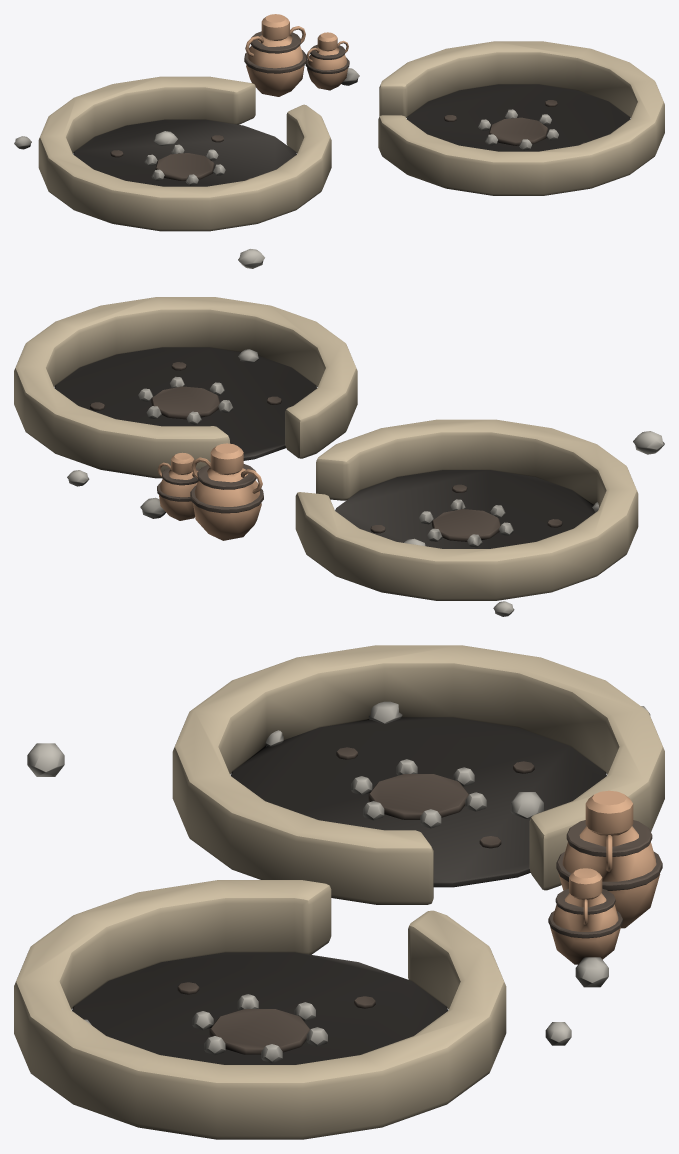
Rendered from hehuang_site.glb.
3 views of the same model, one above another, from view 1: azimuth 30°, elevation 25°; view 2: azimuth 150°, elevation 25°; view 3: azimuth 270°, elevation 25° (orthographic). The views are drawn at different scales.
Visible parts, largest first — view 1: hehuang_site; view 2: hehuang_site; view 3: hehuang_site.
Boxes of the visible parts, x1=… form: hehuang_site: x1=14, y1=14, x2=664, y2=268; hehuang_site: x1=14, y1=297, x2=664, y2=616; hehuang_site: x1=14, y1=645, x2=664, y2=1139.
Bounding box in the file's own units: 6.55 × 0.9316 × 4.1.
